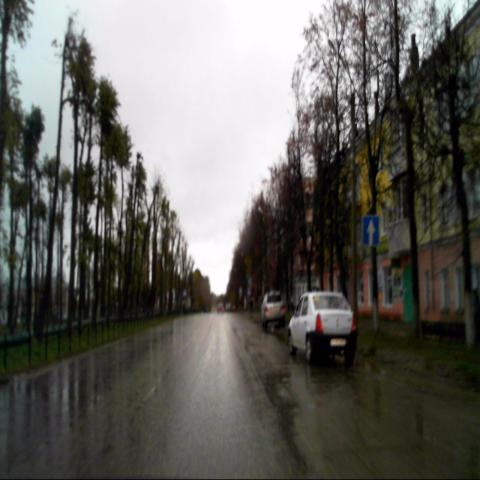5_5: (362, 215, 380, 246)
